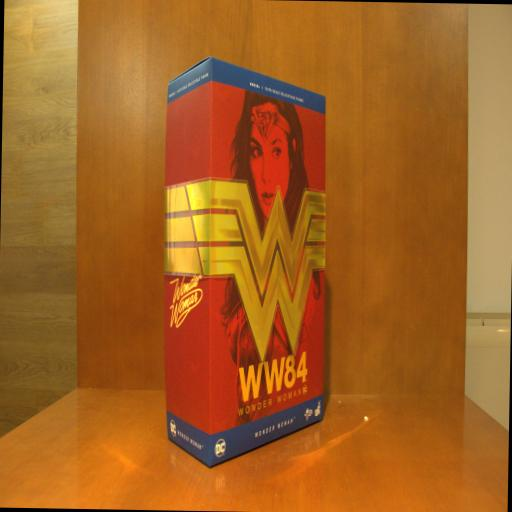WonderWoman: (159, 54, 329, 473)
